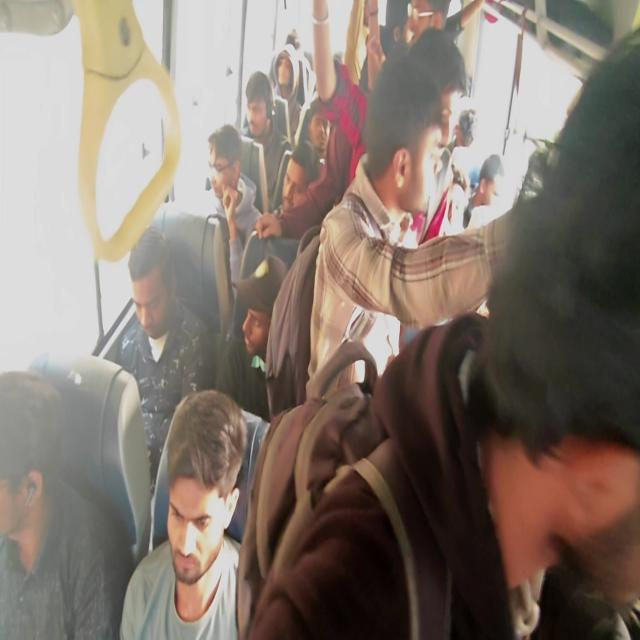person: (239, 30, 639, 638), (305, 38, 518, 400), (119, 388, 247, 638), (0, 369, 112, 638), (114, 224, 213, 492), (216, 253, 287, 421), (206, 123, 263, 283), (239, 70, 292, 214), (463, 152, 504, 229), (280, 139, 321, 215), (271, 43, 303, 140)
